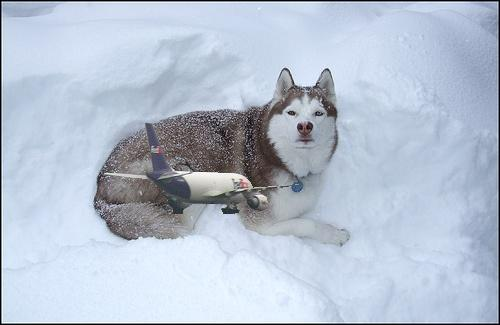tampered: (105, 124, 299, 214)
